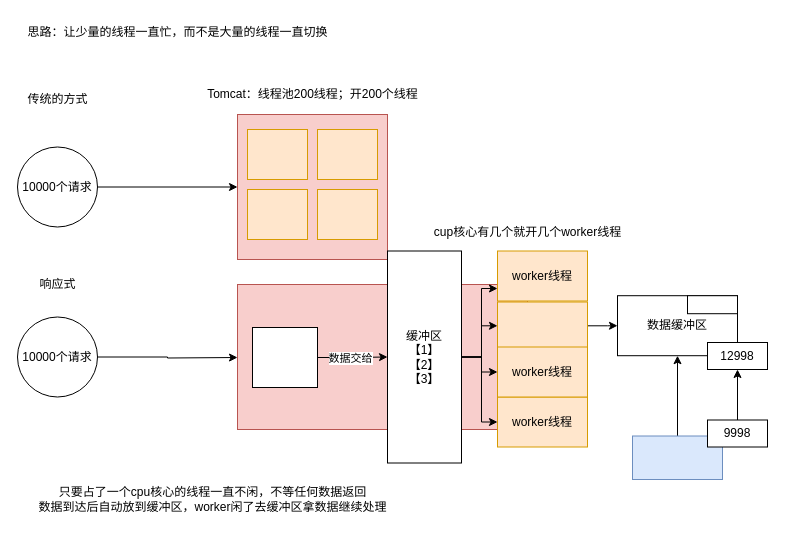
This 785x536 diagram has some shape labels left out. The shapes that lost their labels are listed below. From the top down, each one's box as (x1, y1, x2, y2) in pixels, then its label:
(686, 295, 738, 314): 数据
(496, 301, 588, 350): worker线程 【1请求需要远程调用】
(252, 326, 318, 388): acceptor
(632, 435, 722, 480): 远程调用
